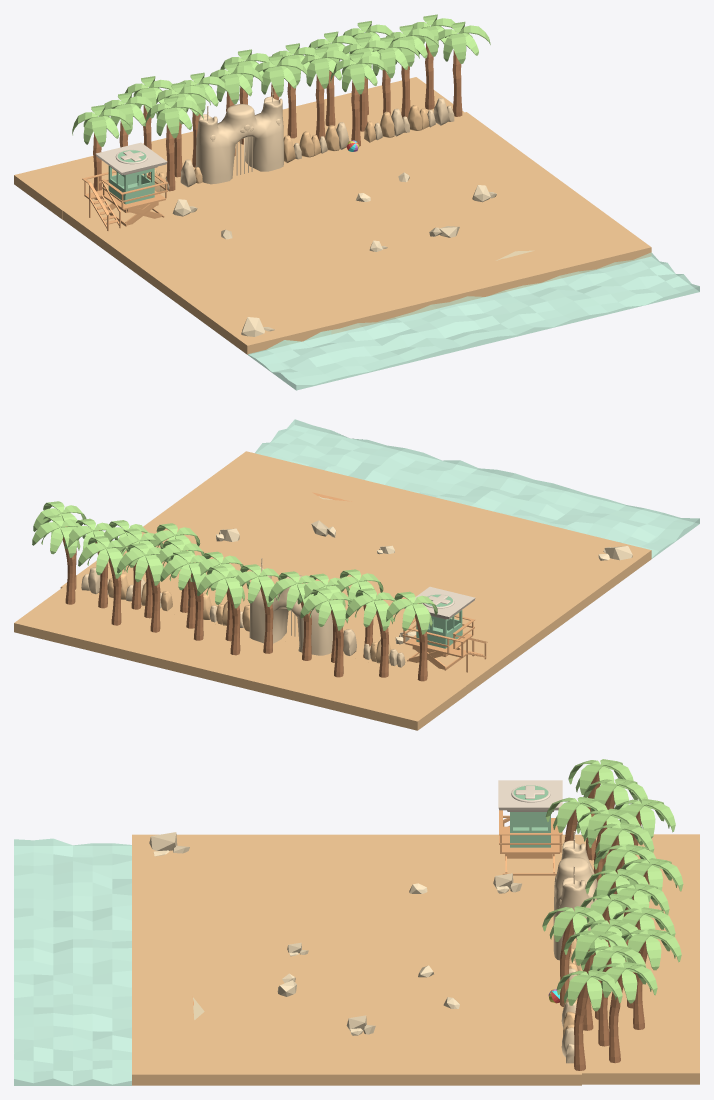
The model's file is towerdefense 1.fbx.
The picture shows the model from 3 angles, top to bottom: view 1: azimuth 30°, elevation 25°; view 2: azimuth 150°, elevation 25°; view 3: azimuth 270°, elevation 25°; orthographic projection. The views are drawn at different scales.
Parts seen in each view (by area): view 1: kum, deniz, kum-2, kum-3, kale, Green-material.014, Green-material.009, Green-material.006, Green-material.002, health-4, Green-material.005, Green-material.007 (+16 smaller); view 2: kum, kum-3, deniz, kum-2, kale, Green-material.014, Green-material.011, Green-material.016, Green-material.019, Green-material.010, Green-material.012, Green-material.017 (+24 smaller); view 3: kum, deniz, kum-2, kum-3, kale, health-3, Green-material.002, health-4, Green-material.017, Green-material.012, Green-material.009, Green-material.014 (+23 smaller).
Boxes of the visible parts, <box> form: kum: <box>160,112,651,333</box>; deniz: <box>247,252,699,390</box>; kum-2: <box>62,199,331,354</box>; kum-3: <box>14,77,464,219</box>; kale: <box>195,87,283,184</box>; Green-material.014: <box>72,105,130,146</box>; Green-material.009: <box>145,96,203,138</box>; Green-material.006: <box>330,52,388,94</box>; Green-material.002: <box>437,21,490,63</box>; health-4: <box>108,165,154,204</box>; Green-material.005: <box>253,54,308,96</box>; Green-material.007: <box>208,62,263,104</box>; kum: <box>60,451,566,664</box>; kum-3: <box>14,587,466,730</box>; deniz: <box>255,419,699,558</box>; kum-2: <box>388,529,651,694</box>; kale: <box>249,558,332,655</box>; Green-material.014: <box>386,591,437,634</box>; Green-material.011: <box>300,588,351,630</box>; Green-material.016: <box>197,565,250,608</box>; Green-material.019: <box>117,543,170,585</box>; Green-material.010: <box>345,588,395,630</box>; Green-material.012: <box>78,536,129,578</box>; Green-material.017: <box>32,515,85,557</box>; kum: <box>132,884,581,1085</box>; deniz: <box>14,838,131,1085</box>; kum-2: <box>132,834,581,884</box>; kum-3: <box>582,834,699,1084</box>; kale: <box>553,831,597,960</box>; health-3: <box>498,780,562,811</box>; Green-material.002: <box>556,970,622,1011</box>; health-4: <box>510,812,550,847</box>; Green-material.017: <box>597,962,657,1003</box>; Green-material.012: <box>621,929,681,970</box>; Green-material.009: <box>545,797,608,837</box>; Green-material.014: <box>568,759,633,794</box>.
Bounding box in the file's own units: 4923 × 1023 × 5662.
